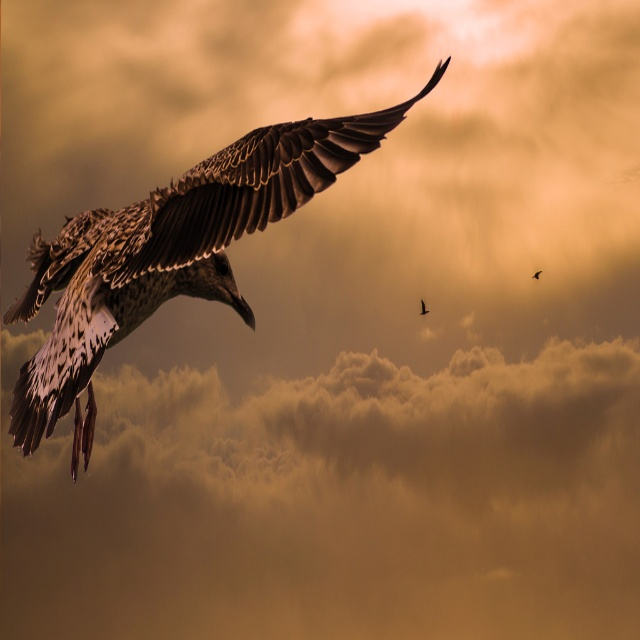Eagle: (2, 48, 451, 485)
